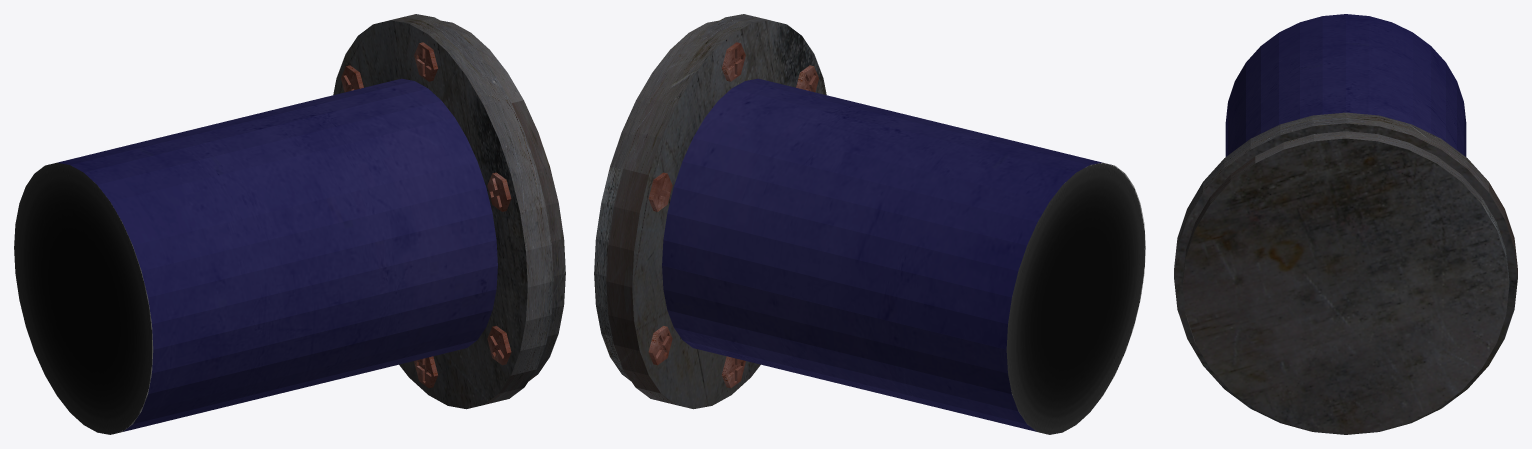
File: WaterHalfPipe.fbx
3 views of the same model, side by side, from view 1: azimuth 30°, elevation 25°; view 2: azimuth 150°, elevation 25°; view 3: azimuth 270°, elevation 25° (orthographic). The views are drawn at different scales.
Visible parts, largest first — view 1: Cylindre.002, Cylindre.003, Cercle.003; view 2: Cylindre.002, Cylindre.003, Cercle.003; view 3: Cylindre.003, Cylindre.002.
Boxes of the visible parts, x1,y1,x2,y2 form: Cylindre.002: [14, 78, 497, 434]; Cylindre.003: [333, 14, 565, 409]; Cercle.003: [341, 42, 511, 388]; Cylindre.002: [662, 78, 1145, 434]; Cylindre.003: [594, 14, 826, 409]; Cercle.003: [648, 42, 818, 388]; Cylindre.003: [1174, 112, 1517, 434]; Cylindre.002: [1225, 14, 1466, 156].
Bounding box in the file's own units: 225 × 200 × 200.
